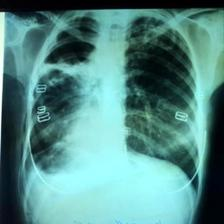tuberculosis: (22, 9, 204, 193)
